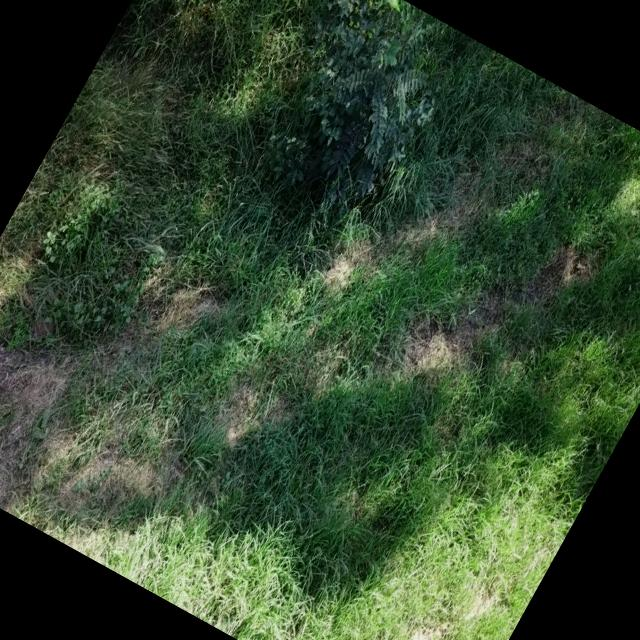Mysore-Thorn-Weed: (238, 0, 482, 239)
